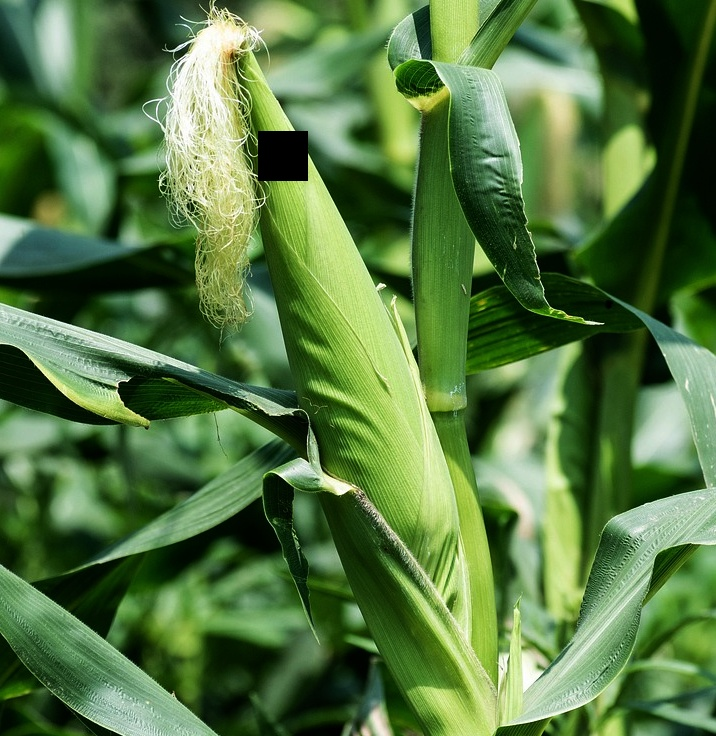corn_plant: (134, 8, 507, 722)
